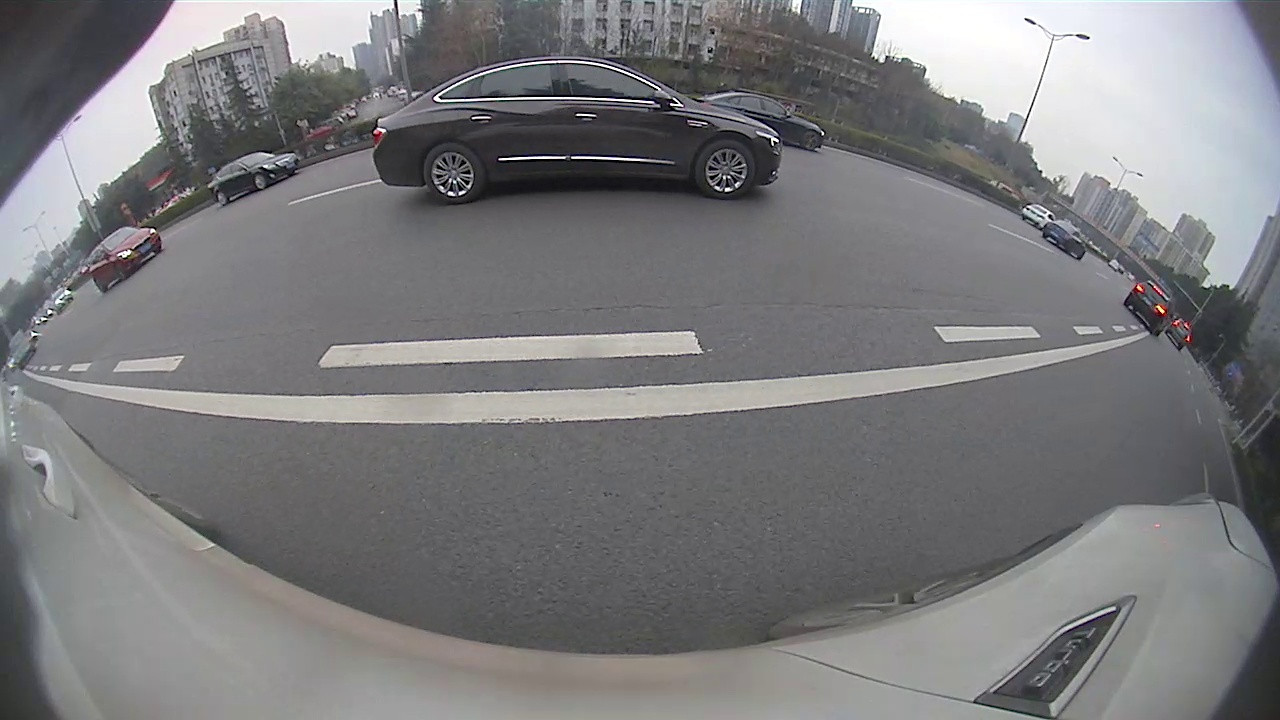car: (373, 58, 780, 203), (697, 91, 823, 150), (87, 225, 161, 293), (212, 150, 295, 205), (1124, 279, 1174, 337), (1043, 220, 1089, 261), (1021, 204, 1055, 230)
front: (692, 139, 757, 202), (799, 129, 821, 151), (253, 172, 268, 192)
rear: (423, 141, 488, 203), (215, 191, 230, 207)
